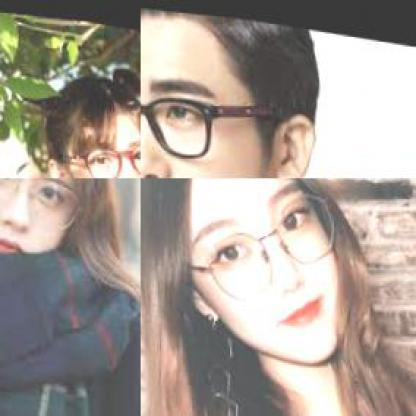Glasses: (179, 178, 340, 312), (141, 64, 268, 174), (56, 117, 139, 177), (0, 178, 84, 227)
